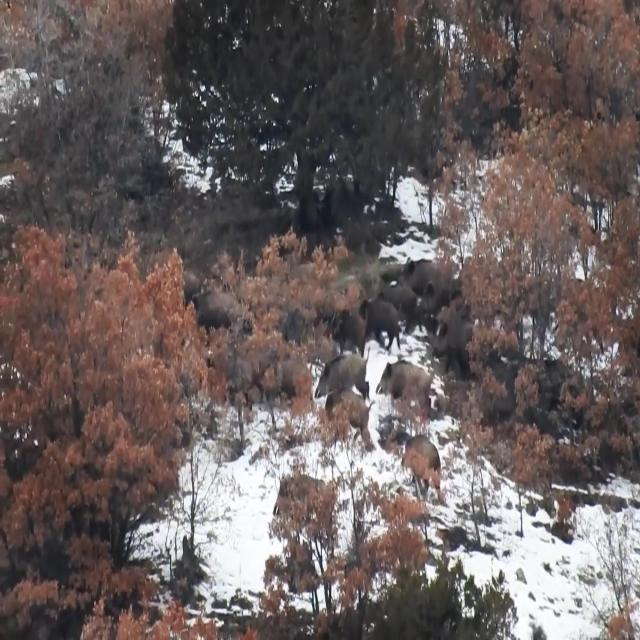pig: (390, 424, 442, 502), (378, 356, 433, 429), (314, 352, 377, 411), (326, 392, 376, 449)
